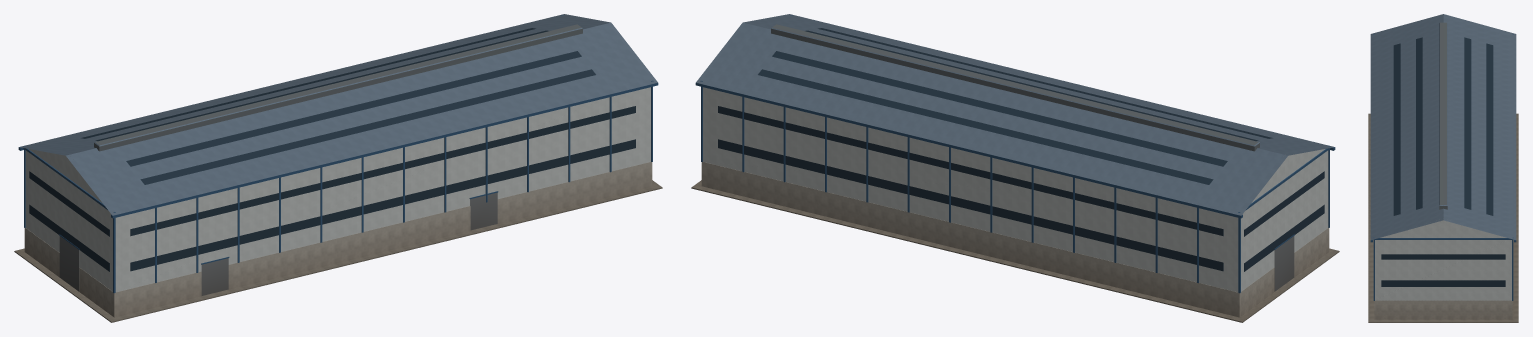
File: mill_hall_lod0.glb
3 renders of one model, left to right at view 1: azimuth 30°, elevation 25°; view 2: azimuth 150°, elevation 25°; view 3: azimuth 270°, elevation 25°, orthographic. The views are drawn at different scales.
Visible parts, largest first — view 1: hall, roof; view 2: hall, roof; view 3: roof, hall.
Boxes of the visible parts, bbox=[...] form: hall: bbox=[14, 15, 662, 322]; roof: bbox=[18, 14, 658, 218]; hall: bbox=[691, 15, 1339, 322]; roof: bbox=[695, 14, 1335, 218]; roof: bbox=[1370, 14, 1516, 242]; hall: bbox=[1368, 34, 1518, 322].
Size of the model in its own units: 164 by 38.5 by 50.
Materials: 13 (4 with a texture image).
